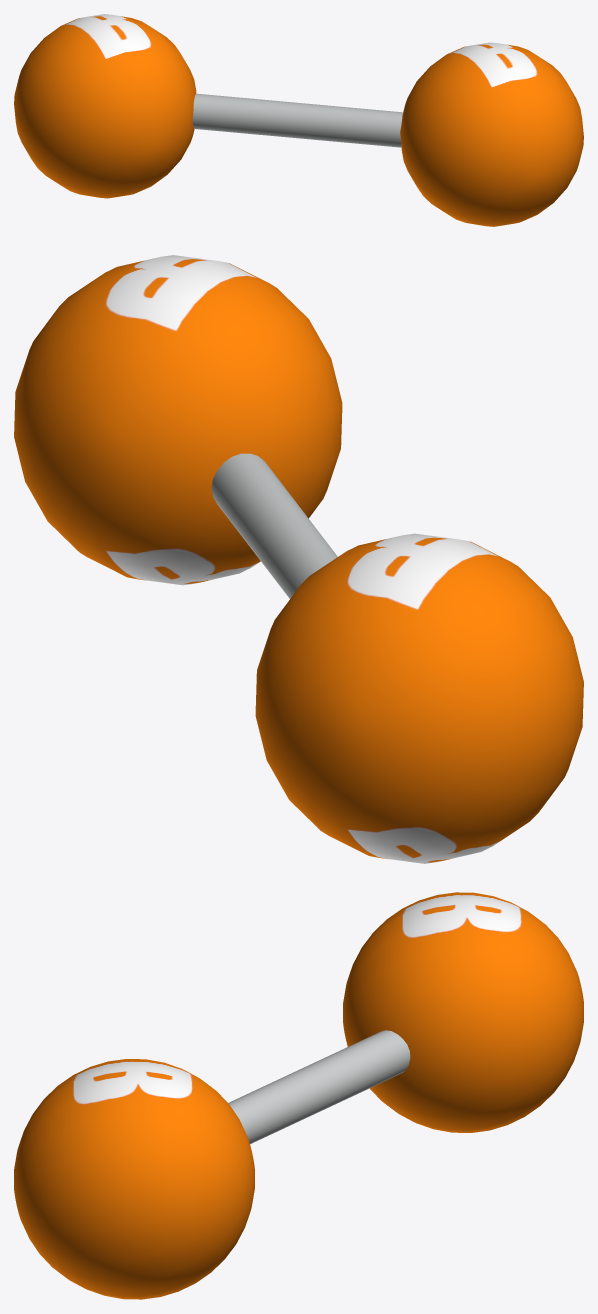
Rendered from SM_Bromine_2.fbx.
3 views of the same model, one above another, from view 1: azimuth 30°, elevation 25°; view 2: azimuth 150°, elevation 25°; view 3: azimuth 270°, elevation 25° (orthographic). The views are drawn at different scales.
Parts seen in each view (by area): view 1: SM_Bromine_2; view 2: SM_Bromine_2; view 3: SM_Bromine_2.
Part boxes in pixels (left/top/right/bottom): SM_Bromine_2: left=14, top=14, right=583, bottom=226; SM_Bromine_2: left=14, top=255, right=583, bottom=863; SM_Bromine_2: left=14, top=892, right=583, bottom=1299.
Size of the model in its own units: 145 by 54.98 by 130.
2 materials, 2 textured.
